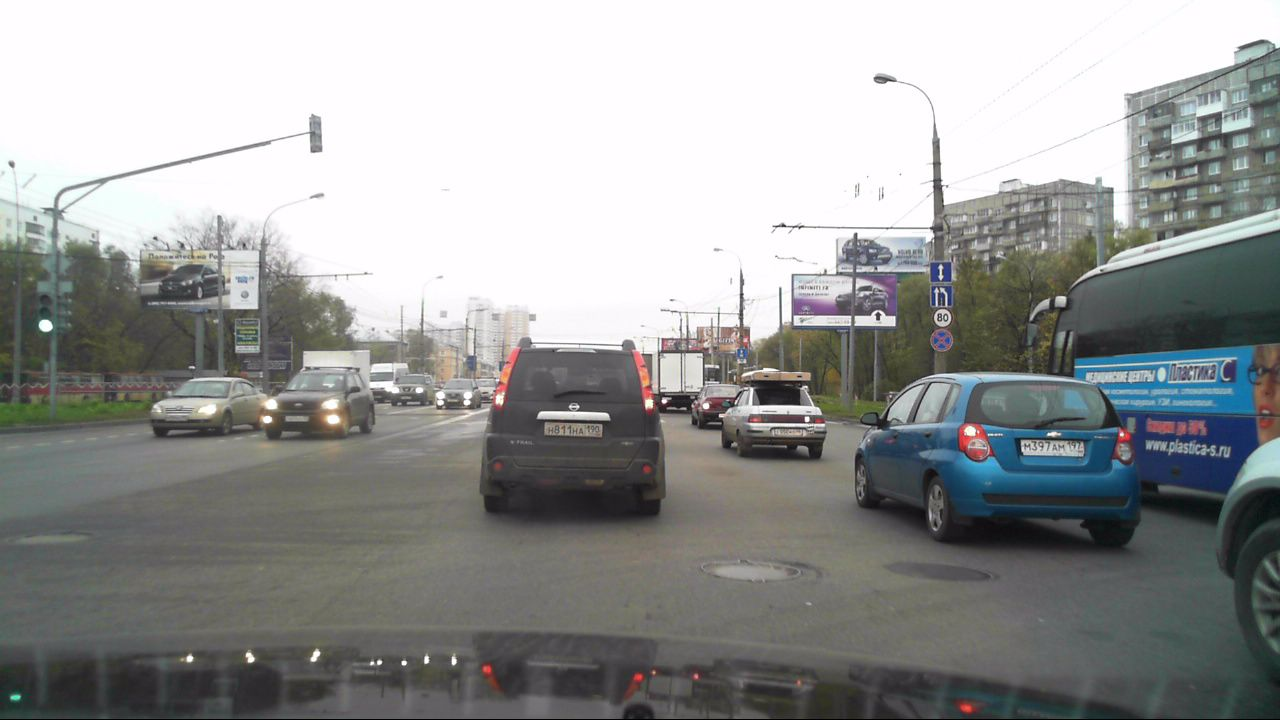No Parking: (930, 328, 954, 352)
